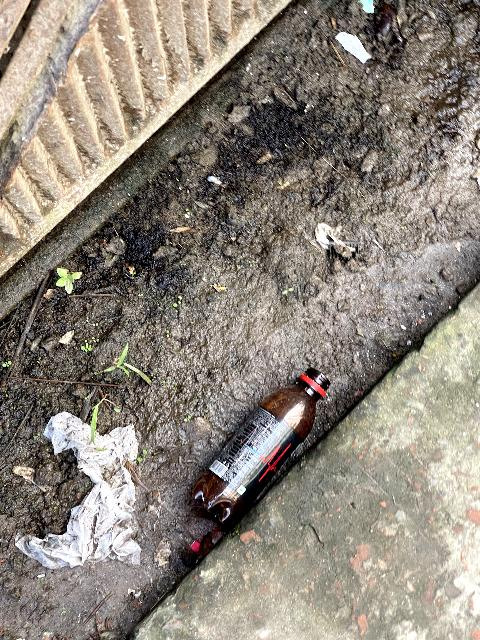bottle: (169, 345, 353, 540)
